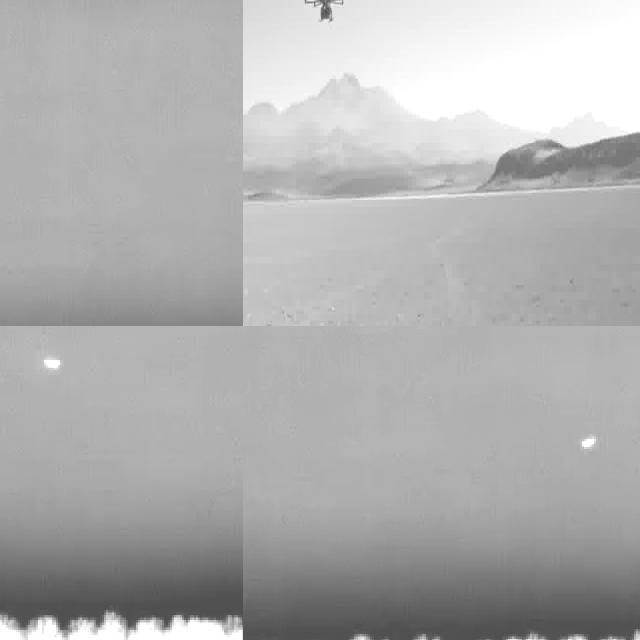1: (35, 352, 71, 382), (573, 430, 609, 460)
drone: (304, 0, 350, 27)
